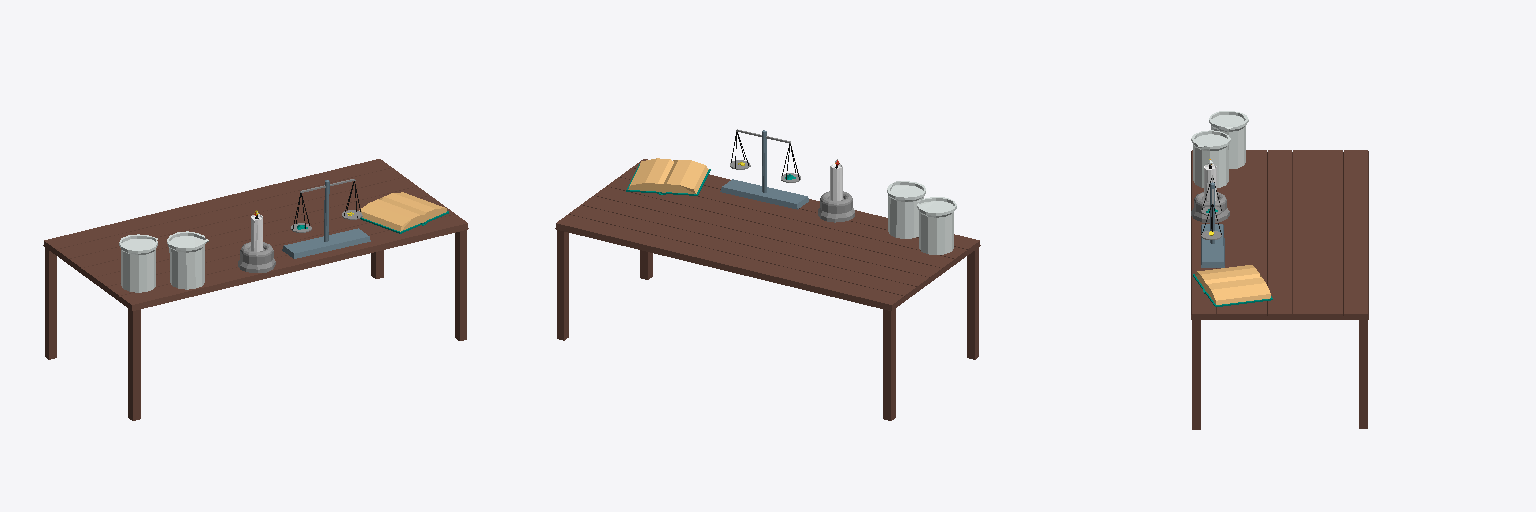
Rendered from sam_table.obj.
The picture shows the model from 3 angles: view 1: azimuth 30°, elevation 25°; view 2: azimuth 150°, elevation 25°; view 3: azimuth 270°, elevation 25°; orthographic projection.
Visible parts, largest first — view 1: model:mesh[number redacted], model:mesh[number redacted], model:mesh[number redacted], model:mesh[number redacted], model:mesh[number redacted], group1 model:mesh[number redacted], model:mesh[number redacted], group4 model:mesh[number redacted], model:mesh[number redacted], group2 model:mesh[number redacted], model:mesh[number redacted], model:mesh[number redacted] (+3 smaller); view 2: model:mesh[number redacted], model:mesh[number redacted], model:mesh[number redacted], model:mesh[number redacted], model:mesh[number redacted], model:mesh[number redacted], group1 model:mesh[number redacted], model:mesh[number redacted], group4 model:mesh[number redacted], group2 model:mesh[number redacted], model:mesh[number redacted], model:mesh[number redacted] group3 (+3 smaller); view 3: model:mesh[number redacted], model:mesh[number redacted], model:mesh[number redacted], model:mesh[number redacted], model:mesh[number redacted], group1 model:mesh[number redacted], model:mesh[number redacted], group4 model:mesh[number redacted], model:mesh[number redacted], model:mesh[number redacted], group2 model:mesh[number redacted], model:mesh[number redacted] group3 (+2 smaller).
Part boxes in pixels (x1,y1,x2,y2): model:mesh[number redacted]: (119,214,468,310); model:mesh[number redacted]: (43,159,391,254); model:mesh[number redacted]: (56,168,403,264); model:mesh[number redacted]: (69,177,416,272); model:mesh[number redacted]: (81,186,429,282); group1 model:mesh[number redacted]: (359,192,446,231); model:mesh[number redacted]: (94,196,442,291); group4 model:mesh[number redacted]: (167,231,208,289); model:mesh[number redacted]: (119,234,157,292); group2 model:mesh[number redacted]: (282,179,370,258); model:mesh[number redacted]: (128,308,140,420); model:mesh[number redacted]: (107,205,454,300); model:mesh[number redacted]: (555,214,903,310); model:mesh[number redacted]: (569,205,916,301); model:mesh[number redacted]: (581,196,929,291); model:mesh[number redacted]: (594,186,941,282); model:mesh[number redacted]: (607,177,954,273); model:mesh[number redacted]: (620,168,967,264); group1 model:mesh[number redacted]: (628,158,708,193); model:mesh[number redacted]: (917,197,956,254); group4 model:mesh[number redacted]: (887,181,925,238); group2 model:mesh[number redacted]: (720,129,808,209); model:mesh[number redacted]: (883,308,895,420); model:mesh[number redacted] group3: (818,159,854,222); model:mesh[number redacted]: (1343,150,1368,319); model:mesh[number redacted]: (1267,150,1292,319); model:mesh[number redacted]: (1292,150,1317,319); model:mesh[number redacted]: (1318,150,1342,319); model:mesh[number redacted]: (1242,150,1267,319); group1 model:mesh[number redacted]: (1195,265,1270,304); model:mesh[number redacted]: (1217,167,1241,319); group4 model:mesh[number redacted]: (1191,130,1230,187); model:mesh[number redacted]: (1191,150,1216,319); model:mesh[number redacted]: (1209,111,1248,168); group2 model:mesh[number redacted]: (1201,175,1224,267); model:mesh[number redacted] group3: (1191,159,1229,222).
Bounding box in the file's own units: 4.75 × 2.49 × 2.18.